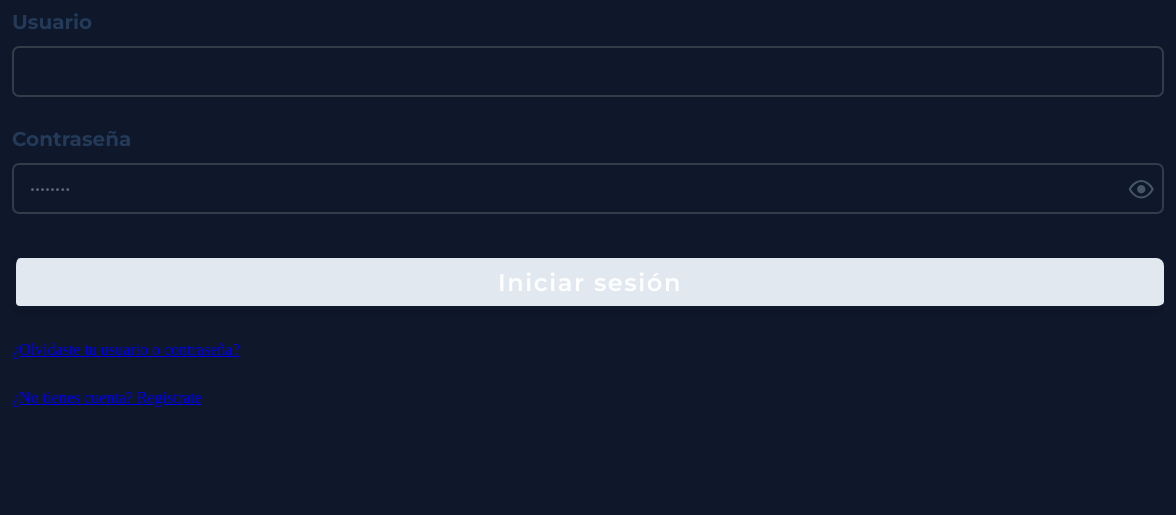
Test: LoginForm - Component Unit Tests › Form Submissions & Interaction Flow › should render a global failure alert component if the submitted action state contains global errors
This screenshot has width=1176, height=515.
Type "wrong_user" into the field labelled "Usuario" at (588, 72), box [14,48,1162,95]
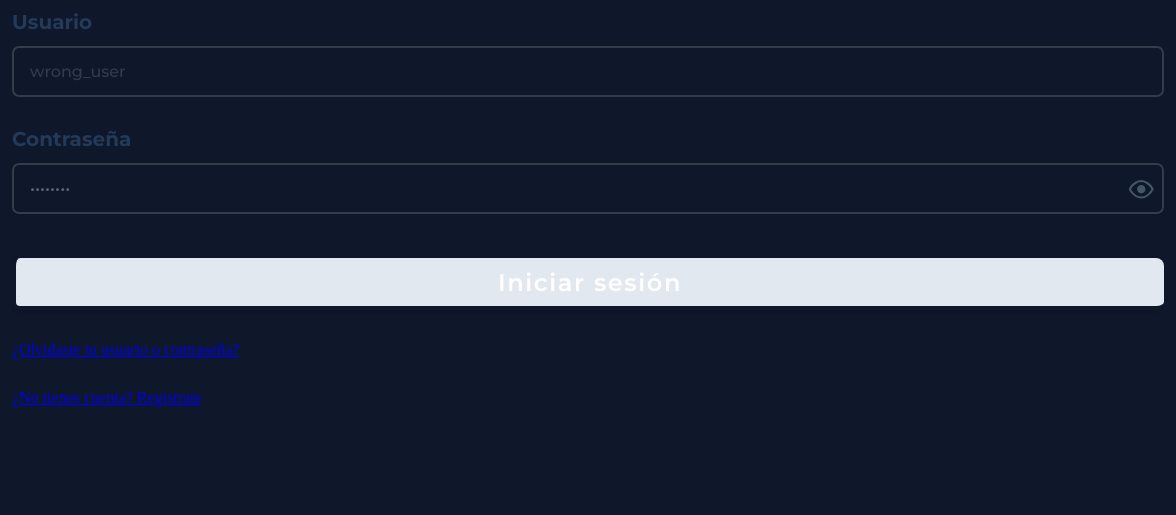
Type "123" into the password field labelled "Contraseña" at (568, 188), box [14,165,1121,212]
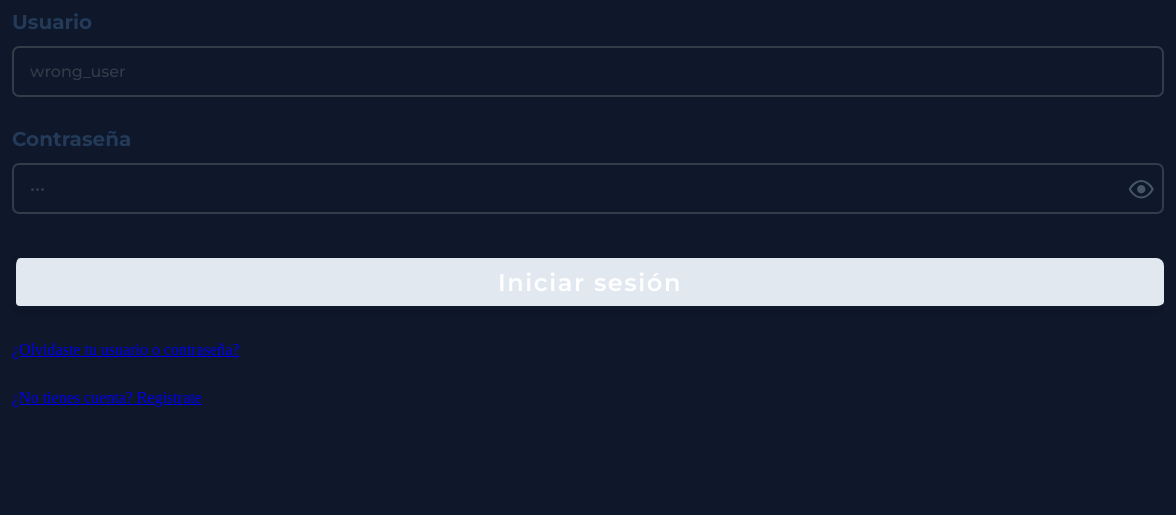
Click the button "Iniciar sesión" at (588, 284), box [12,258,1164,310]
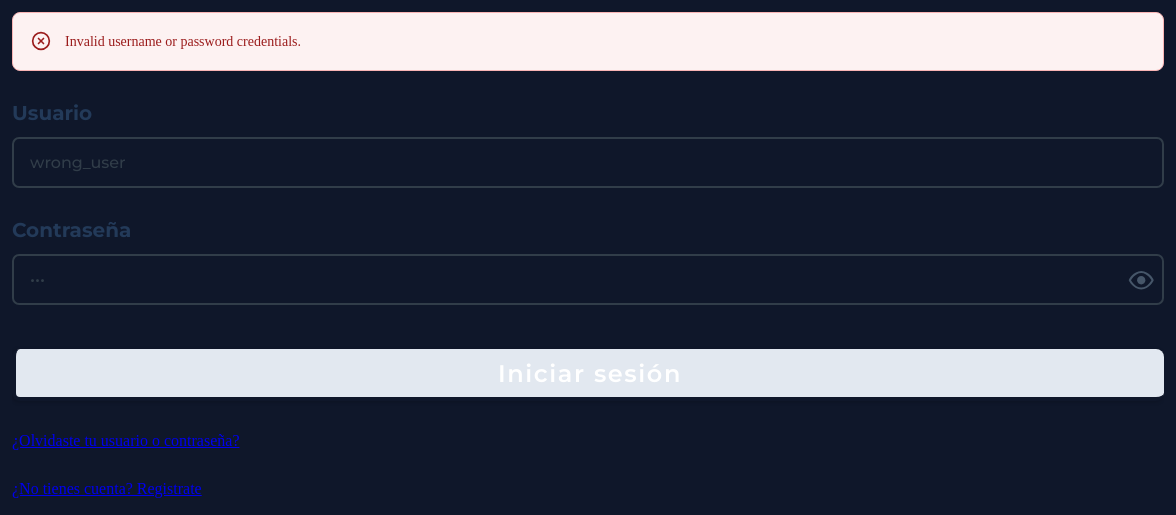
Expected: the text "Invalid username or password credentials." is shown, [65,31,301,52]
